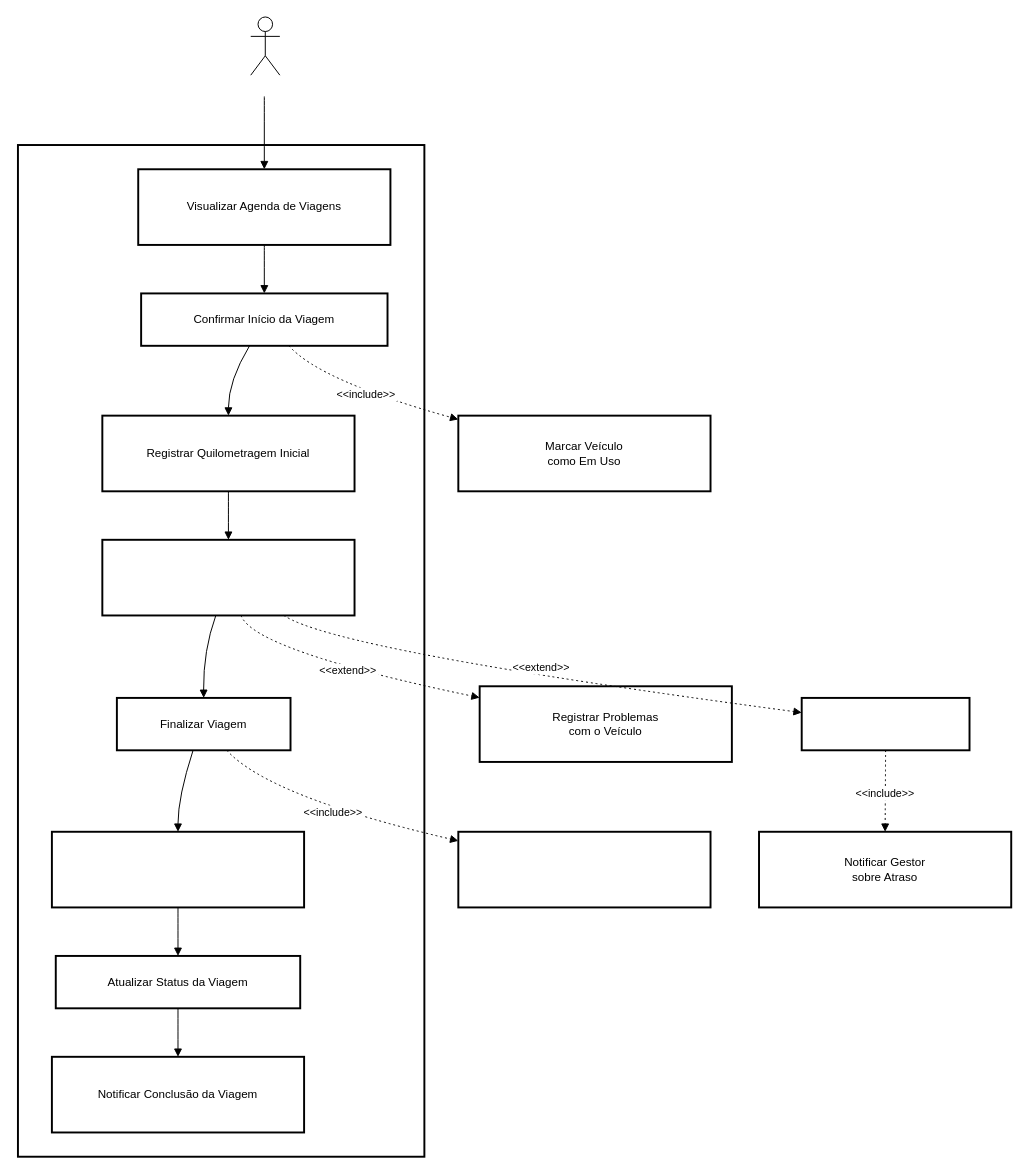
The diagram is 1028 pixels wide and 1175 high, and some of its shapes have lost their labels. Each missing label, with the box of its shape:
Marcar Veículo como Disponível: (457, 830, 711, 908)
Motorista: (250, 16, 280, 75)
Registrar Atraso: (800, 696, 970, 751)
Registrar Ocorrências Durante Viagem: (101, 538, 355, 616)
Registrar Quilometragem Final: (50, 830, 305, 908)
